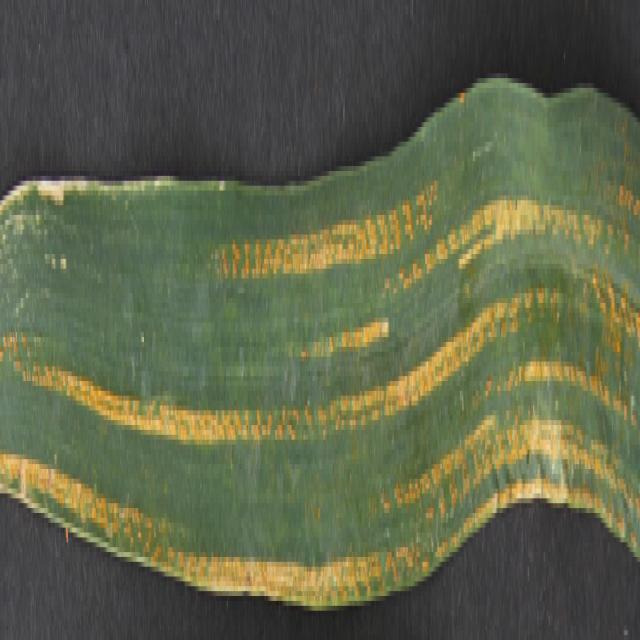leaf rust: (0, 171, 640, 571)
